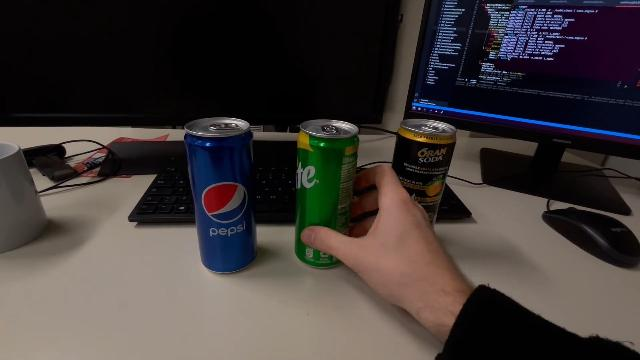OranSoda: (391, 115, 459, 235)
Pepsi: (182, 114, 260, 276)
Sprite: (292, 116, 361, 272)
